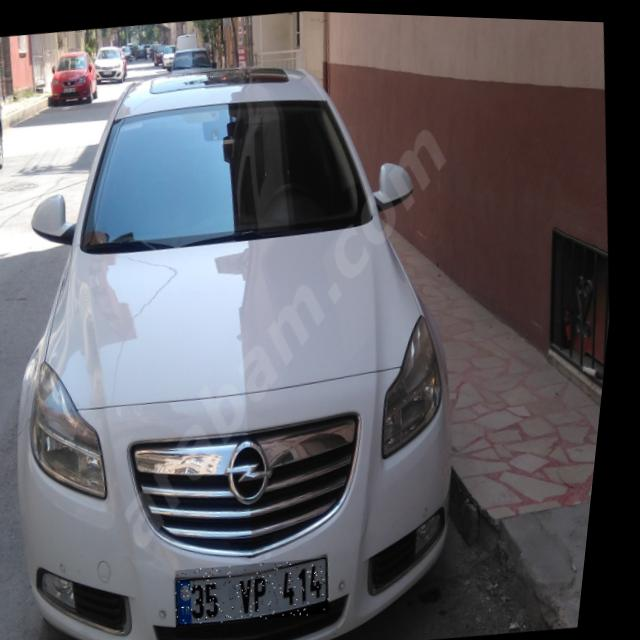license_plate: (182, 550, 346, 628)
